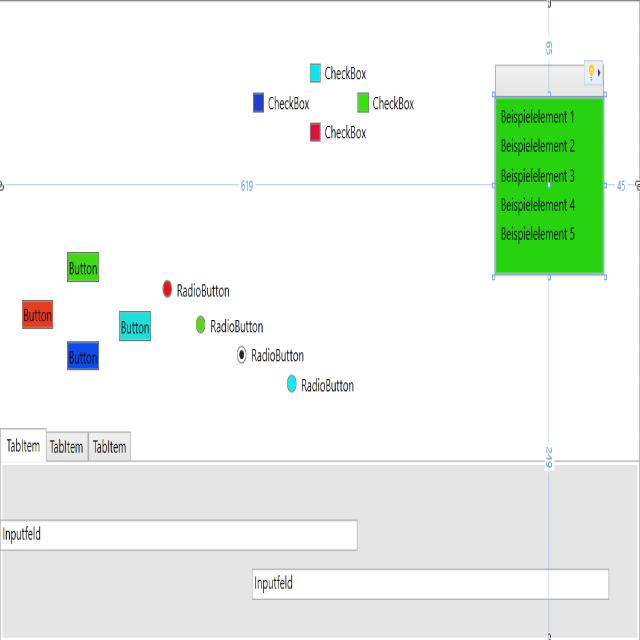button: (18, 293, 56, 333), (65, 246, 102, 286), (116, 306, 152, 346), (65, 335, 101, 374)
checkbox: (251, 87, 266, 119), (355, 86, 371, 116), (308, 57, 322, 87), (308, 118, 322, 144)
dropdownMenu: (494, 61, 606, 282)
input: (248, 563, 612, 605), (0, 513, 359, 553)
label: (210, 312, 266, 338), (300, 374, 358, 398), (250, 345, 306, 366), (324, 120, 370, 144), (266, 91, 311, 115), (176, 282, 232, 301), (324, 60, 368, 84), (372, 90, 415, 114)
radio: (160, 274, 176, 301), (194, 311, 207, 338), (286, 369, 298, 397), (235, 344, 248, 366)
tabControl: (0, 422, 135, 466)
